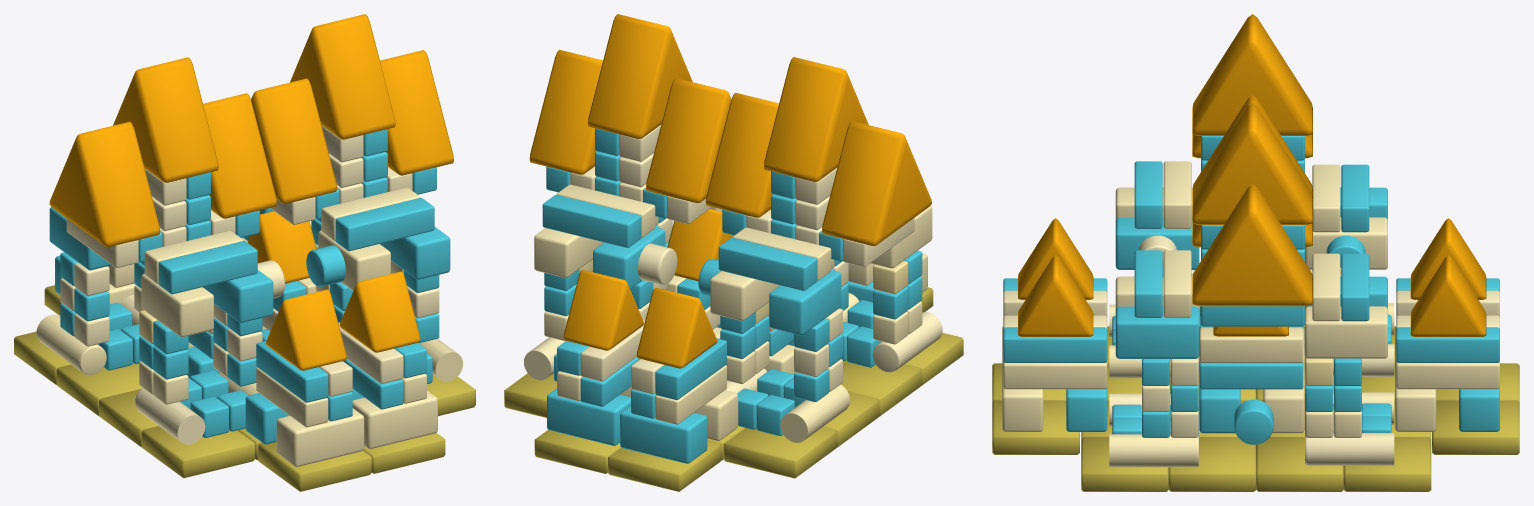
The picture shows the model from 3 angles, left to right: view 1: azimuth 30°, elevation 25°; view 2: azimuth 150°, elevation 25°; view 3: azimuth 270°, elevation 25°; orthographic projection. The views are drawn at different scales.
Visible parts, largest first — view 1: Cube_L2_4, Cube_L2_3, Cube_L2_5, Cube_L2_1, Cube_L2_6, Cube_L2_7, Cube_L2_10, Cube_L2_9, Cube_L1_1, Cube_L4_68, Cube_L4_64, Cube_L4_118 (+59 smaller); view 2: Cube_L2_4, Cube_L2_5, Cube_L2_3, Cube_L2_1, Cube_L2_7, Cube_L2_6, Cube_L2_11, Cube_L2_8, Cube_L1_4, Cube_L4_127, Cube_L4_40, Cube_L4_98 (+57 smaller); view 3: Cube_L2_7, Cube_L2_3, Cube_L2_5, Cube_L2_11, Cube_L2_10, Cube_L1_10, Cube_L4_117, Cube_L1_7, Cube_L4_38, Cube_L1, Cube_L1_15, Cube_L4_5 (+57 smaller).
Part boxes in pixels (x1,y1,x2,y2): Cube_L2_4: (49,121,159,247); Cube_L2_3: (290,14,395,139); Cube_L2_5: (113,57,218,182); Cube_L2_1: (251,78,336,203); Cube_L2_6: (203,93,276,218); Cube_L2_7: (380,50,453,175); Cube_L2_10: (339,271,420,352); Cube_L2_9: (266,289,346,370); Cube_L1_1: (141,426,255,478); Cube_L4_68: (276,408,364,466); Cube_L4_64: (158,241,257,294); Cube_L4_118: (335,197,434,251); Cube_L2_4: (822,121,931,245); Cube_L2_5: (763,57,868,181); Cube_L2_3: (587,14,692,138); Cube_L2_1: (646,78,731,202); Cube_L2_7: (529,49,602,174); Cube_L2_6: (705,92,778,217); Cube_L2_11: (563,270,643,350); Cube_L2_8: (636,287,717,368); Cube_L1_4: (723,427,836,478); Cube_L4_127: (620,406,707,463); Cube_L4_40: (542,194,641,247); Cube_L4_98: (718,237,817,290); Cube_L2_7: (1192,184,1312,306); Cube_L2_3: (1192,103,1312,224); Cube_L2_5: (1192,14,1312,135); Cube_L2_11: (1410,255,1486,336); Cube_L2_10: (1018,255,1093,336); Cube_L1_10: (1168,437,1256,491); Cube_L4_117: (1115,306,1199,358); Cube_L1_7: (1256,437,1343,491); Cube_L4_38: (1304,306,1387,358); Cube_L1: (1343,437,1431,491); Cube_L1_15: (1432,400,1519,454); Cube_L4_5: (1199,327,1303,363).
Size of the model in its own units: 21.06 by 19.43 by 26.51.
